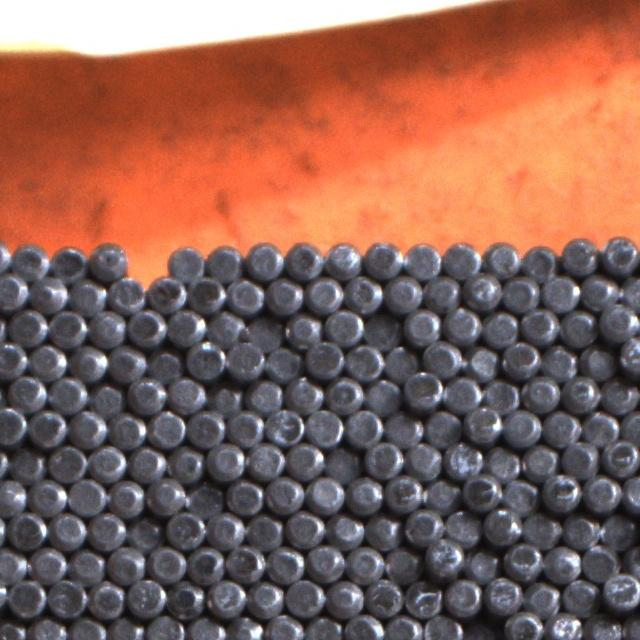tool: (244, 240, 284, 280), (146, 272, 186, 312), (264, 474, 304, 514), (462, 270, 502, 310), (284, 508, 324, 548), (284, 240, 324, 280), (126, 576, 165, 616), (324, 305, 364, 344), (325, 578, 364, 618), (324, 374, 364, 413), (304, 273, 343, 313), (385, 472, 424, 512), (403, 506, 442, 546), (598, 300, 637, 340), (264, 275, 303, 315), (541, 472, 580, 512), (462, 472, 502, 511), (305, 542, 344, 582), (7, 510, 47, 549), (126, 306, 166, 345), (165, 508, 204, 548), (8, 306, 47, 346), (88, 241, 128, 280), (30, 273, 70, 312), (106, 344, 145, 384), (558, 234, 598, 273), (47, 578, 86, 617), (147, 543, 186, 582), (482, 506, 521, 545), (187, 545, 226, 584), (403, 580, 442, 619), (186, 408, 225, 447), (67, 407, 106, 446), (285, 577, 324, 616), (27, 407, 66, 446), (344, 341, 383, 380), (442, 373, 481, 412), (10, 241, 49, 280), (561, 373, 600, 412), (68, 276, 107, 315), (205, 442, 244, 481), (304, 339, 343, 378), (226, 339, 265, 378), (166, 306, 205, 345), (264, 405, 303, 444), (501, 272, 539, 312), (246, 578, 284, 618), (206, 576, 244, 616), (504, 540, 542, 580), (28, 476, 66, 516), (49, 307, 87, 347), (402, 240, 440, 280), (558, 306, 596, 346), (483, 575, 521, 615), (286, 440, 324, 480), (424, 537, 464, 575), (166, 578, 204, 618), (127, 374, 165, 413), (48, 443, 86, 482), (48, 374, 87, 412), (67, 476, 106, 514), (579, 272, 617, 311), (444, 576, 482, 615), (68, 344, 107, 382), (87, 579, 125, 618), (343, 274, 382, 312), (382, 544, 420, 583), (364, 577, 402, 616), (28, 546, 67, 584), (541, 272, 579, 311), (27, 342, 66, 380), (582, 473, 620, 512), (305, 473, 343, 512), (147, 408, 185, 447), (225, 544, 264, 582), (186, 339, 224, 378), (206, 510, 245, 548), (345, 475, 383, 514), (344, 407, 383, 445), (106, 545, 144, 584), (48, 510, 86, 549), (106, 477, 144, 516), (464, 403, 502, 442), (8, 578, 46, 617), (423, 338, 462, 376), (382, 273, 420, 312), (520, 304, 558, 343), (502, 339, 540, 378), (8, 373, 46, 412), (107, 274, 145, 313), (441, 240, 480, 278), (541, 408, 579, 447), (364, 239, 402, 278), (600, 233, 639, 271), (365, 438, 403, 477), (246, 439, 284, 478), (324, 238, 363, 276), (559, 439, 598, 477), (48, 242, 86, 281), (442, 304, 479, 344), (128, 444, 166, 482), (305, 407, 343, 445), (167, 444, 205, 482), (521, 373, 559, 411), (88, 444, 126, 482), (542, 544, 580, 582), (147, 476, 185, 514), (423, 407, 461, 445), (346, 544, 384, 582), (166, 374, 204, 412), (225, 477, 263, 515), (382, 344, 420, 382), (265, 544, 303, 582), (226, 275, 264, 313), (422, 272, 460, 310), (324, 444, 362, 482), (88, 308, 126, 346), (500, 476, 538, 514), (522, 579, 560, 617), (87, 511, 125, 549), (146, 345, 184, 383), (481, 308, 519, 346), (540, 343, 578, 381), (283, 310, 321, 348), (206, 308, 244, 346), (384, 409, 422, 447), (600, 376, 638, 414), (482, 376, 520, 414), (108, 410, 146, 448), (404, 439, 442, 477), (560, 576, 598, 614), (598, 512, 636, 550), (8, 445, 46, 483), (562, 511, 600, 549), (364, 375, 402, 413), (284, 374, 322, 412), (483, 238, 521, 276), (363, 511, 401, 549), (522, 510, 560, 548), (602, 437, 640, 475), (206, 378, 244, 416), (403, 306, 440, 345), (503, 407, 540, 446), (520, 242, 557, 281), (167, 243, 204, 282), (186, 479, 223, 518), (227, 406, 264, 444), (579, 342, 616, 380), (603, 572, 640, 610), (404, 371, 442, 408), (68, 546, 105, 584), (443, 441, 481, 478), (580, 409, 618, 446), (188, 274, 225, 312), (245, 511, 283, 548), (326, 511, 364, 548), (444, 507, 481, 545), (205, 243, 242, 281), (463, 342, 500, 380), (264, 344, 302, 381), (464, 545, 501, 583), (244, 314, 281, 352), (521, 443, 558, 480), (246, 376, 283, 413), (423, 476, 460, 513), (580, 544, 617, 581), (483, 444, 520, 481), (87, 379, 124, 416), (126, 514, 163, 551), (364, 312, 401, 349), (503, 609, 543, 640), (545, 609, 583, 640), (344, 611, 383, 640), (584, 611, 622, 640), (424, 612, 463, 640), (383, 612, 422, 640), (0, 270, 27, 310), (0, 476, 27, 516), (146, 612, 184, 640), (264, 612, 302, 640), (0, 544, 27, 582), (304, 613, 342, 640), (0, 340, 26, 379), (0, 404, 25, 444), (225, 614, 263, 640), (186, 614, 224, 640), (106, 614, 144, 640), (68, 614, 106, 640), (30, 614, 67, 640), (462, 614, 499, 640), (618, 272, 640, 310), (619, 336, 640, 375), (620, 405, 640, 443), (0, 615, 28, 640), (622, 472, 640, 510), (623, 544, 640, 581)
